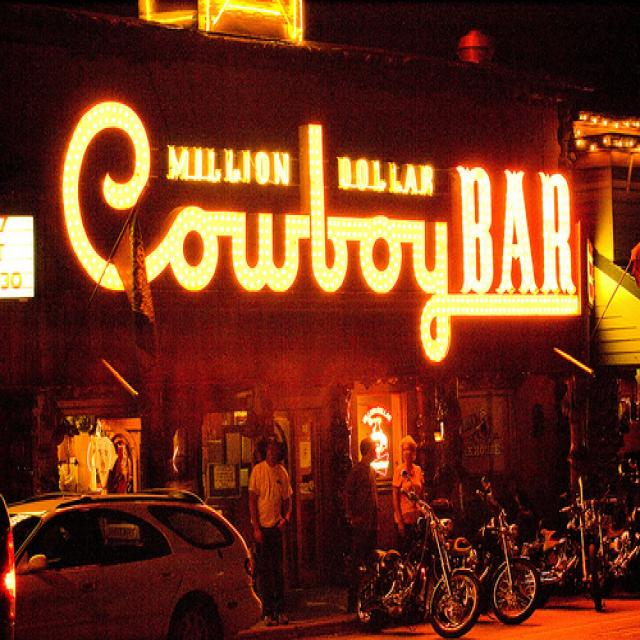Motorbike: (344, 487, 489, 640), (529, 465, 628, 598), (487, 484, 559, 640)
People: (346, 402, 394, 614), (249, 414, 303, 598), (390, 389, 428, 540)
car: (0, 475, 245, 640)
